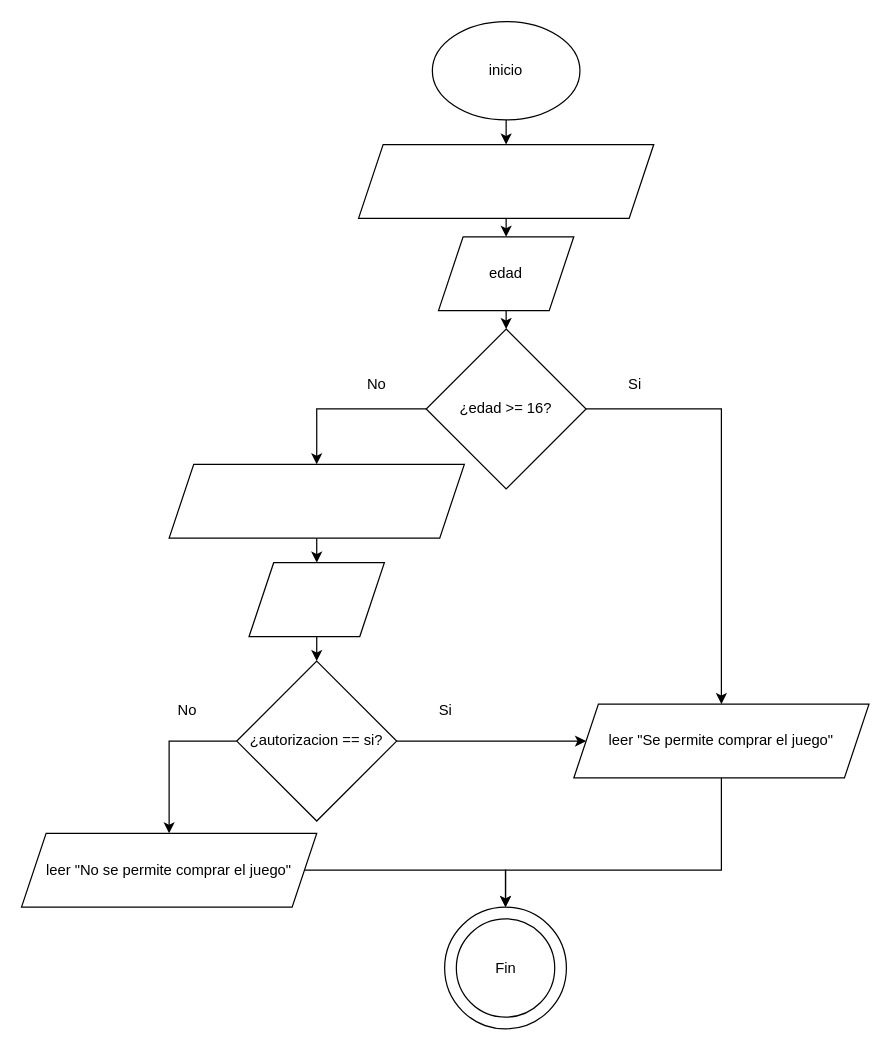
Image size: 891x1050. Some labels were removed from this diagram. The centre of each missing label's shape, as x and y in pixels:
autorizacion: point (316, 599)
leer "¿cuantos años tienes?": point (505, 180)
leer "¿un adulto dio autorización parental desde la cuenta familiar?": point (316, 500)
